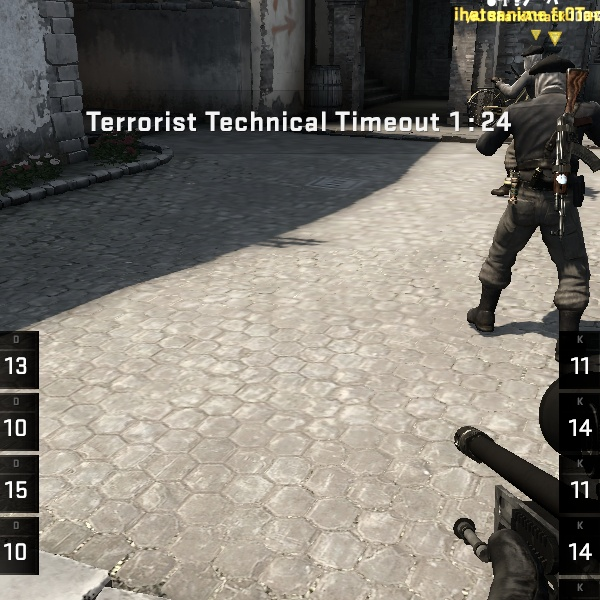t_body: (465, 49, 589, 352)
